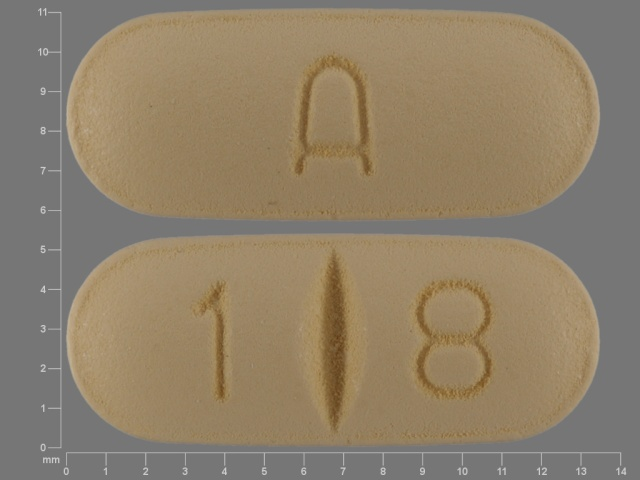1: (189, 277, 242, 410)
8: (407, 273, 501, 402)
A: (286, 46, 381, 186)
|: (304, 227, 362, 448)
